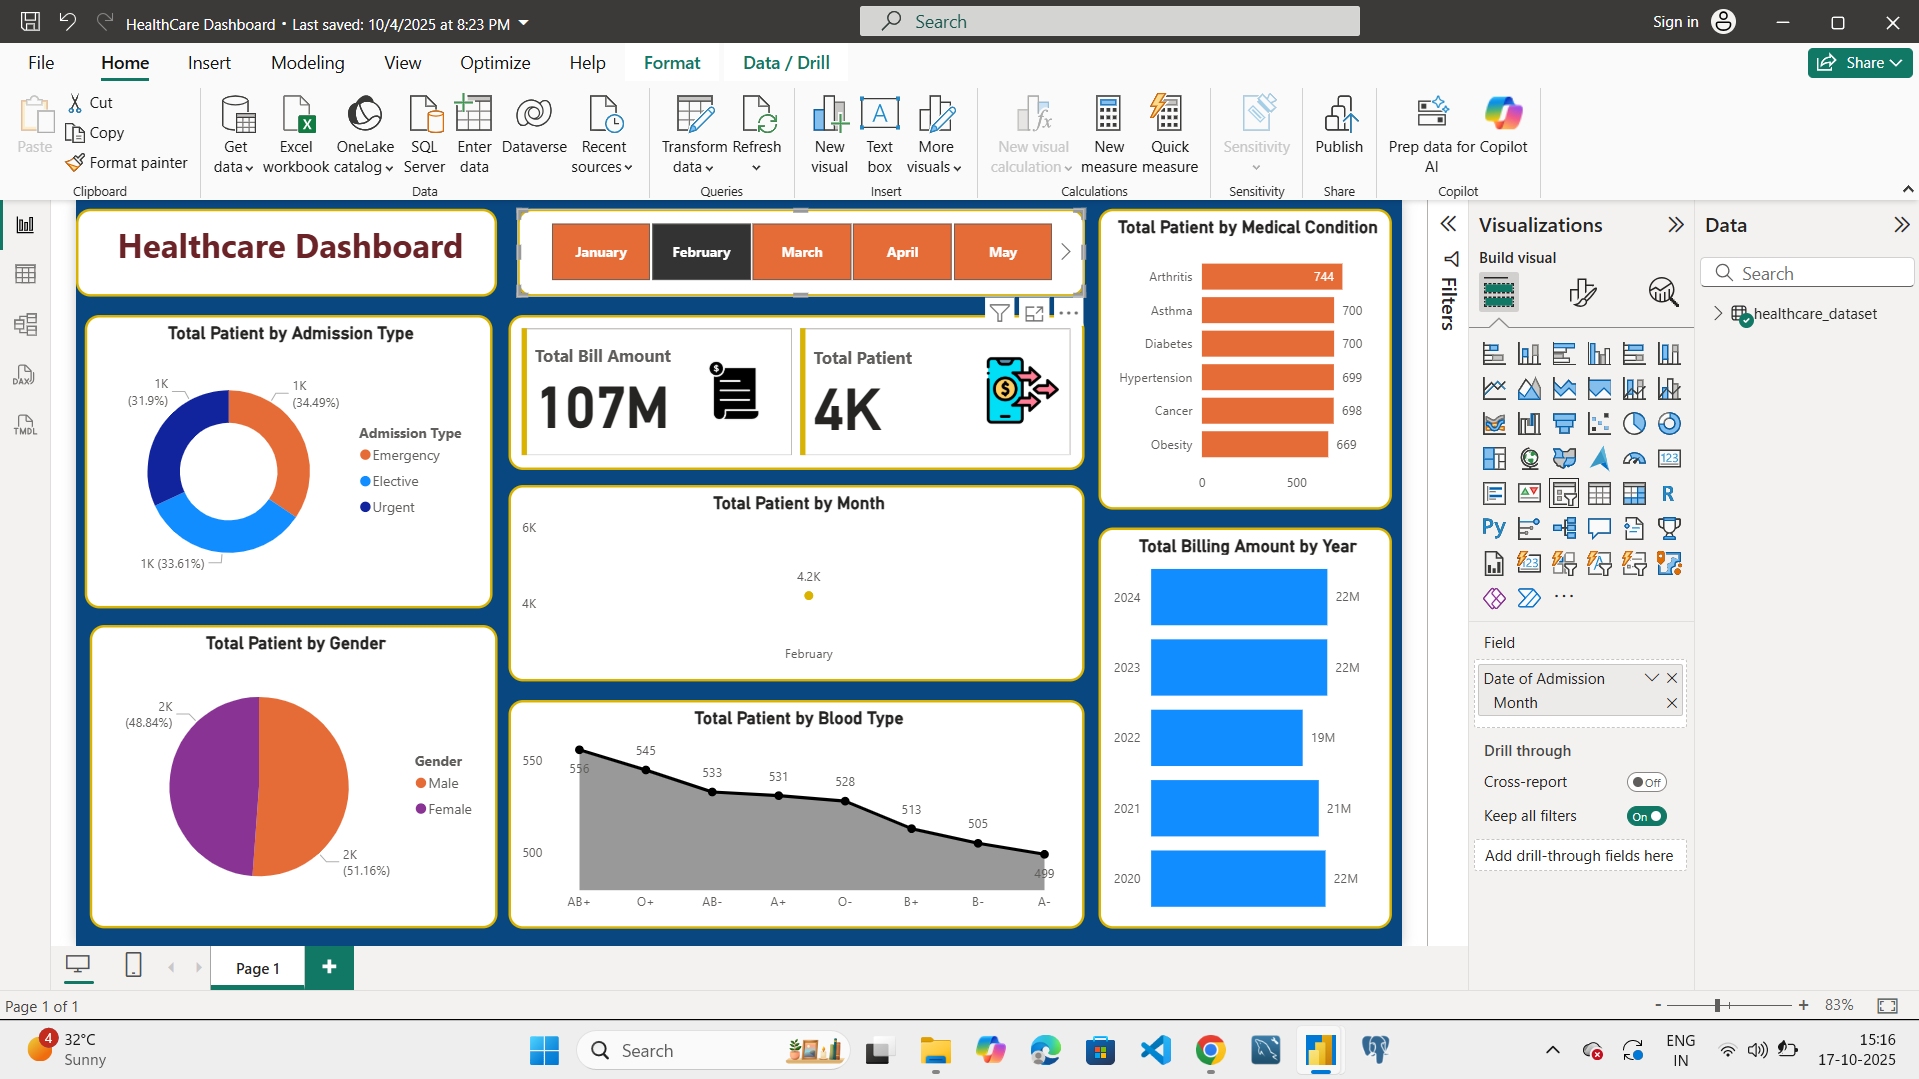

The page's visual inventory and layout, read from the dashboard file:
{"tool":"powerbi","page":{"name":"Page 1","canvas":[1280,720],"ordinal":0},"visuals":[{"type":"textbox","box":[0,8.4,406.6,84.5],"z":0},{"type":"cardVisual","fields":{"Data":["healthcare_dataset.Billing Amount","healthcare_dataset.Age"]},"box":[417.4,111,556.2,149.6],"z":1},{"type":"barChart","fields":{"Category":["healthcare_dataset.Medical Condition"],"Y":["healthcare_dataset.Total Patient"]},"box":[986.9,8.4,283.5,290.8],"z":2},{"type":"areaChart","fields":{"Category":["healthcare_dataset.Date of Admission.Variation.Date Hierarchy.Month"],"Y":["healthcare_dataset.Total Patient"]},"box":[417.4,275.1,556.2,189.4],"z":3},{"type":"barChart","fields":{"Category":["healthcare_dataset.Date of Admission.Variation.Date Hierarchy.Year"],"Y":["healthcare_dataset.Billing Amount"]},"box":[986.9,316.1,283.5,387.3],"z":4},{"type":"pieChart","fields":{"Category":["healthcare_dataset.Gender"],"Y":["healthcare_dataset.Total Patient"]},"box":[13.3,410.2,393.3,293.2],"z":5},{"type":"areaChart","fields":{"Category":["healthcare_dataset.Blood Type"],"Y":["healthcare_dataset.Total Patient"]},"box":[417.4,482.6,556.2,220.8],"z":6},{"type":"donutChart","fields":{"Y":["healthcare_dataset.Total Patient"],"Category":["healthcare_dataset.Admission Type"]},"box":[8.4,111,393.3,283.5],"z":7},{"type":"slicer","fields":{"Values":["healthcare_dataset.Date of Admission.Variation.Date Hierarchy.Month"]},"box":[425.9,8.4,547.7,84.5],"z":8}]}

Visuals, with their boxes on the page's 1280x720 design canvas (x1, y1, x2, y2). These are canvas units, not pixel positions in the 1919x1079 screenshot, which may show the page scaled, cropped or inside an application window:
textbox: <region>0, 8, 407, 93</region>
cardVisual - healthcare_dataset.Billing Amount x healthcare_dataset.Age: <region>417, 111, 974, 261</region>
barChart - healthcare_dataset.Medical Condition x healthcare_dataset.Total Patient: <region>987, 8, 1270, 299</region>
areaChart - healthcare_dataset.Date of Admission.Variation.Date Hierarchy.Month x healthcare_dataset.Total Patient: <region>417, 275, 974, 464</region>
barChart - healthcare_dataset.Date of Admission.Variation.Date Hierarchy.Year x healthcare_dataset.Billing Amount: <region>987, 316, 1270, 703</region>
pieChart - healthcare_dataset.Gender x healthcare_dataset.Total Patient: <region>13, 410, 407, 703</region>
areaChart - healthcare_dataset.Blood Type x healthcare_dataset.Total Patient: <region>417, 483, 974, 703</region>
donutChart - healthcare_dataset.Total Patient x healthcare_dataset.Admission Type: <region>8, 111, 402, 394</region>
slicer - healthcare_dataset.Date of Admission.Variation.Date Hierarchy.Month: <region>426, 8, 974, 93</region>
